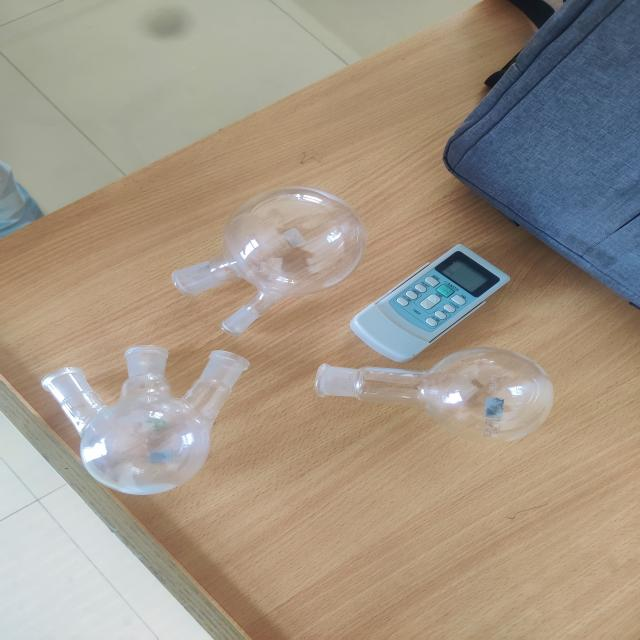Round_Bottom_Flask_Borosilicate_Glass_1_Neck: (301, 327, 584, 464)
Round_Bottom_Flask_Borosilicate_Glass_2_Neck: (167, 184, 389, 339)
Round_Bottom_Flask_Borosilicate_Glass_3_Neck: (22, 333, 272, 518)
